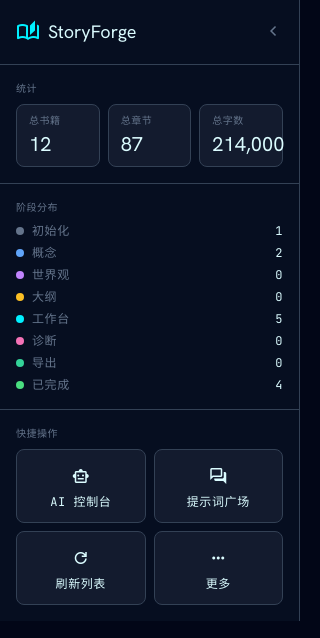
Test: StatsSidebar › collapses to icon-only mode when toggle is clicked
The width and height of the screenshot is (320, 638).
Click the button named "收起侧边栏": (273, 32) top-left (263, 17), bottom-right (283, 47)
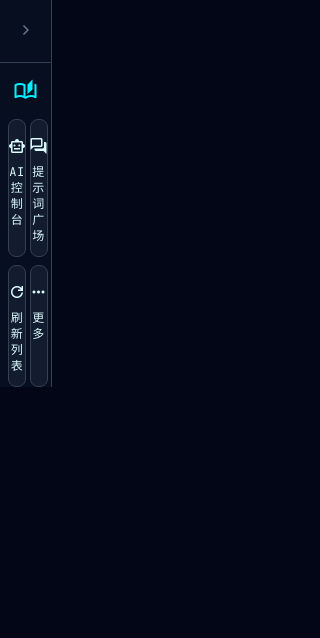
Check: the element with test id "quick-actions" is shown, box top-left (8, 119), bottom-right (43, 387)
Check: the text "StoryForge" is gone
